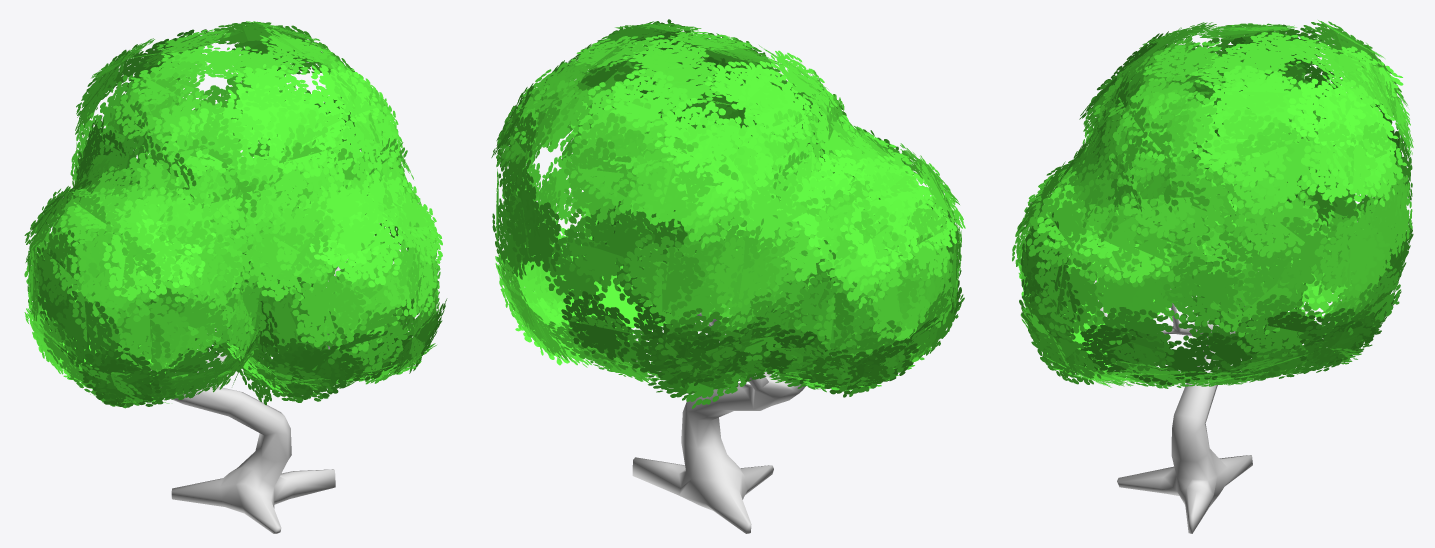
File: Tree1.fbx
3 renders of one model, left to right at view 1: azimuth 30°, elevation 25°; view 2: azimuth 150°, elevation 25°; view 3: azimuth 270°, elevation 25°, orthographic. The views are drawn at different scales.
Visible parts, largest first — view 1: Tree1; view 2: Tree1; view 3: Tree1.
Boxes of the visible parts, x1,y1,x2,y2 form: Tree1: [24, 21, 447, 533]; Tree1: [491, 19, 965, 533]; Tree1: [1012, 20, 1413, 533].
Size of the model in its own units: 6.84 by 8.24 by 7.33.
